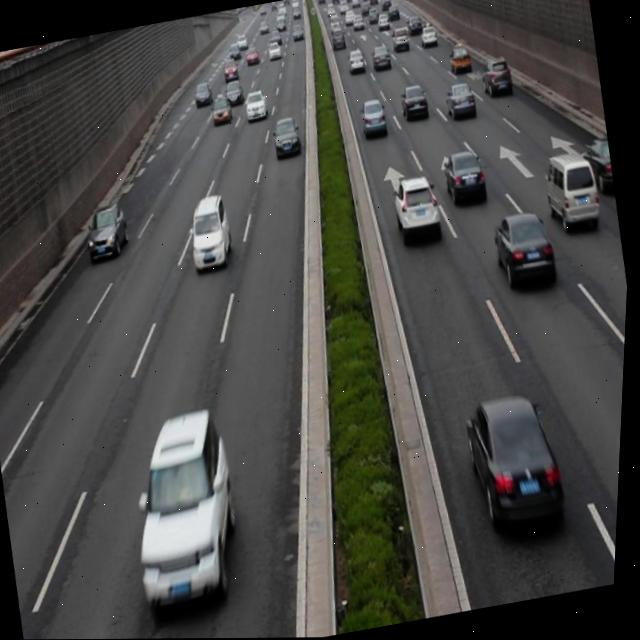car: (116, 405, 257, 614), (461, 387, 572, 534), (489, 207, 561, 294), (184, 193, 239, 271), (390, 174, 445, 240), (82, 200, 134, 263), (441, 147, 491, 210), (582, 134, 618, 195), (478, 55, 514, 101), (269, 113, 303, 161), (441, 78, 477, 123), (397, 81, 431, 124), (358, 97, 389, 140), (445, 42, 473, 77), (243, 87, 269, 124), (208, 91, 234, 125)
truck: (540, 149, 604, 233)
